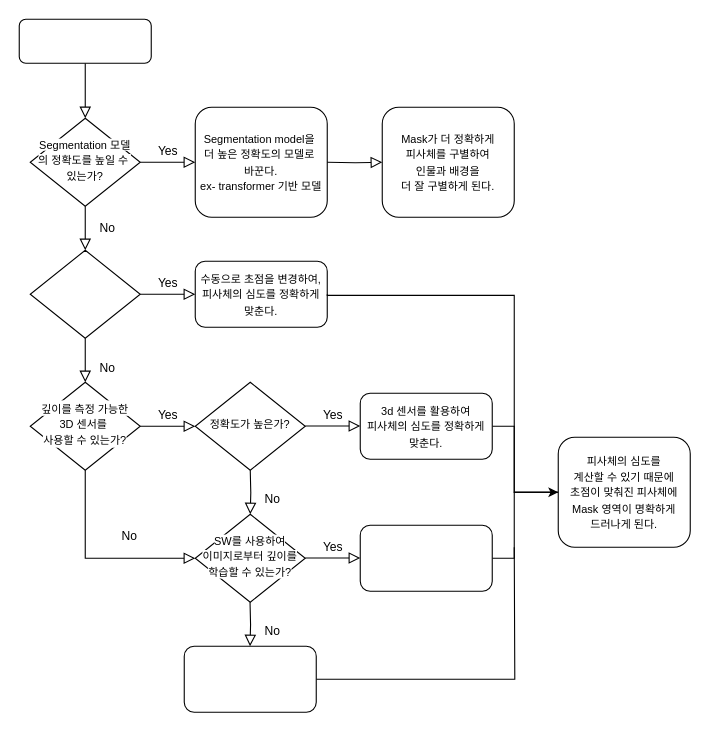
The diagram is 710 pixels wide and 732 high, and some of its shapes have lost their labels. Here are the shapes that lost their labels. From the top down, the centre of each, then its label:
the point at 84,40: 인물모드 사진의 문제점
the point at 84,293: 수동으로 초점을 바꿀 수 있는가?
the point at 425,557: 학습된 모델로부터 이미지의 깊이를 예측한다.
the point at 249,678: IR 카메라 등 다른 기술을 활용하여 이미지의 깊이를 계산, 예측한다.
